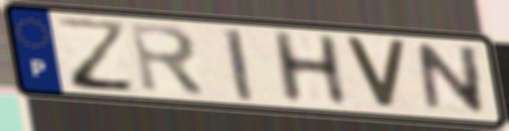H: (266, 29, 353, 106)
I: (221, 25, 258, 104)
N: (414, 42, 490, 117)
R: (127, 19, 210, 100)
V: (340, 34, 411, 113)
Z: (54, 15, 140, 96)
